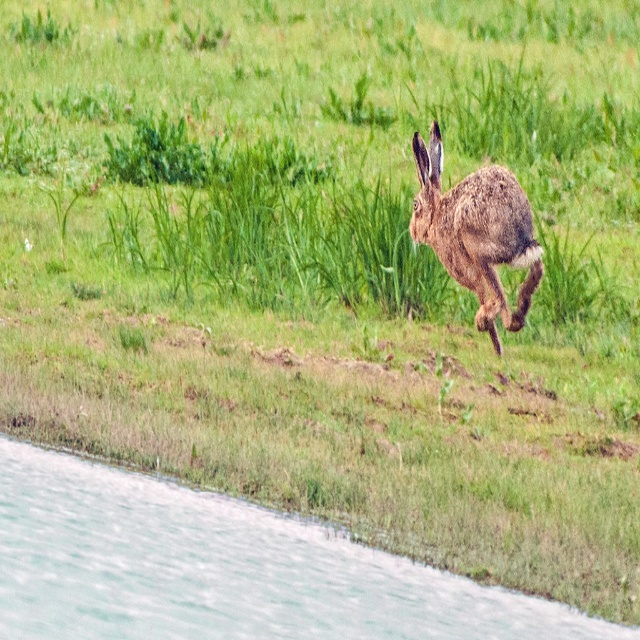Rabbit: (409, 119, 545, 357)
